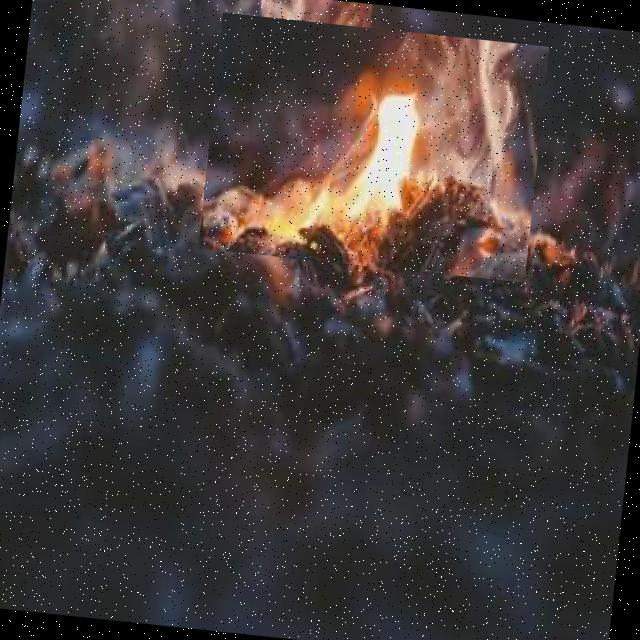fire: (198, 12, 549, 282)
